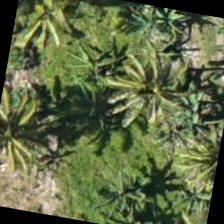Kelapa_Sawit: (97, 39, 201, 143), (156, 110, 224, 208), (7, 0, 92, 76), (0, 86, 61, 186)
